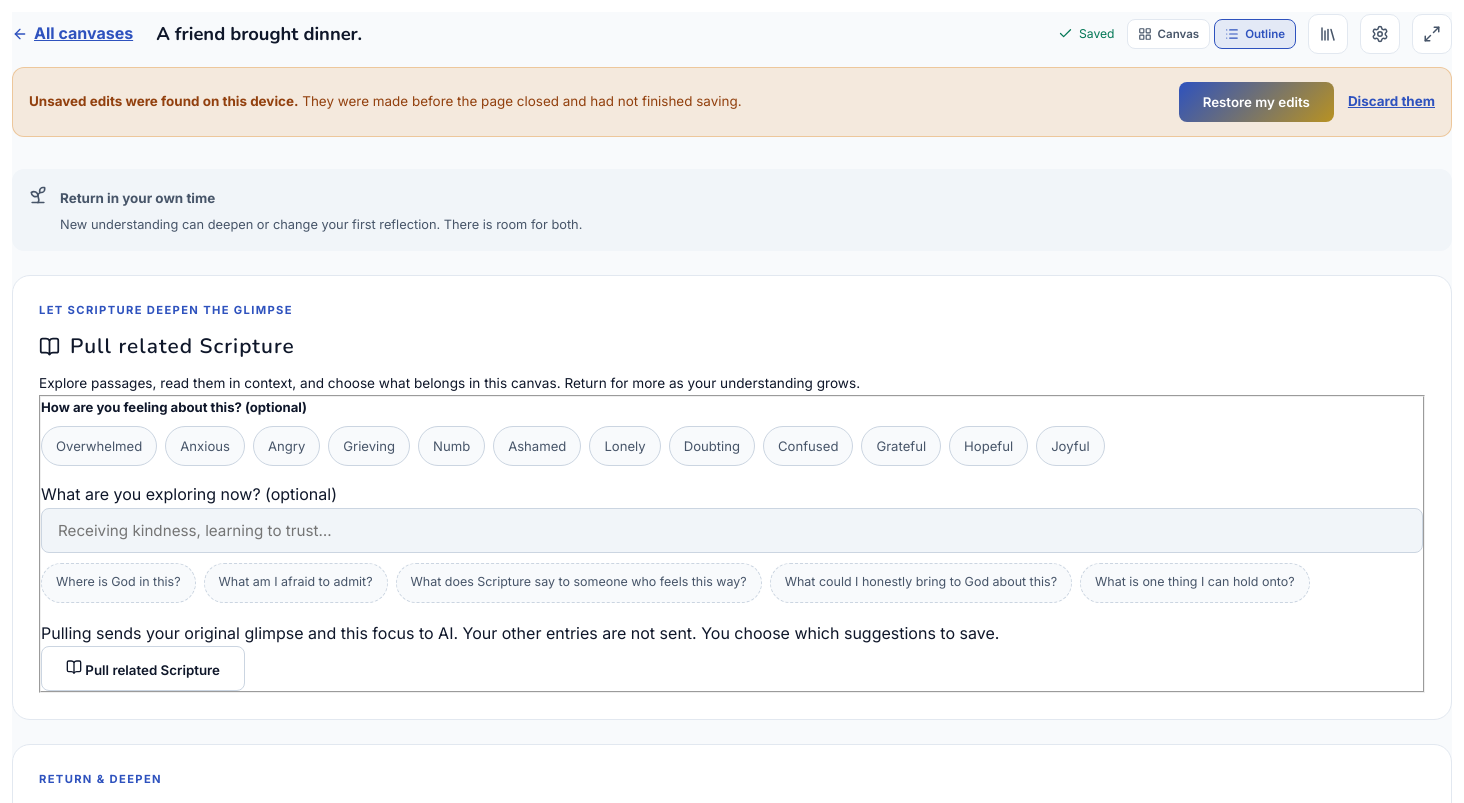
it: edits left on this device › offers to restore them when the account is still where they started, then saves them
Check: the message that starts with "Unsaved edits were found on this device." is shown, box [29,93,298,109]
Click the button "Restore my edits": (1256, 102) [1179,82,1334,122]
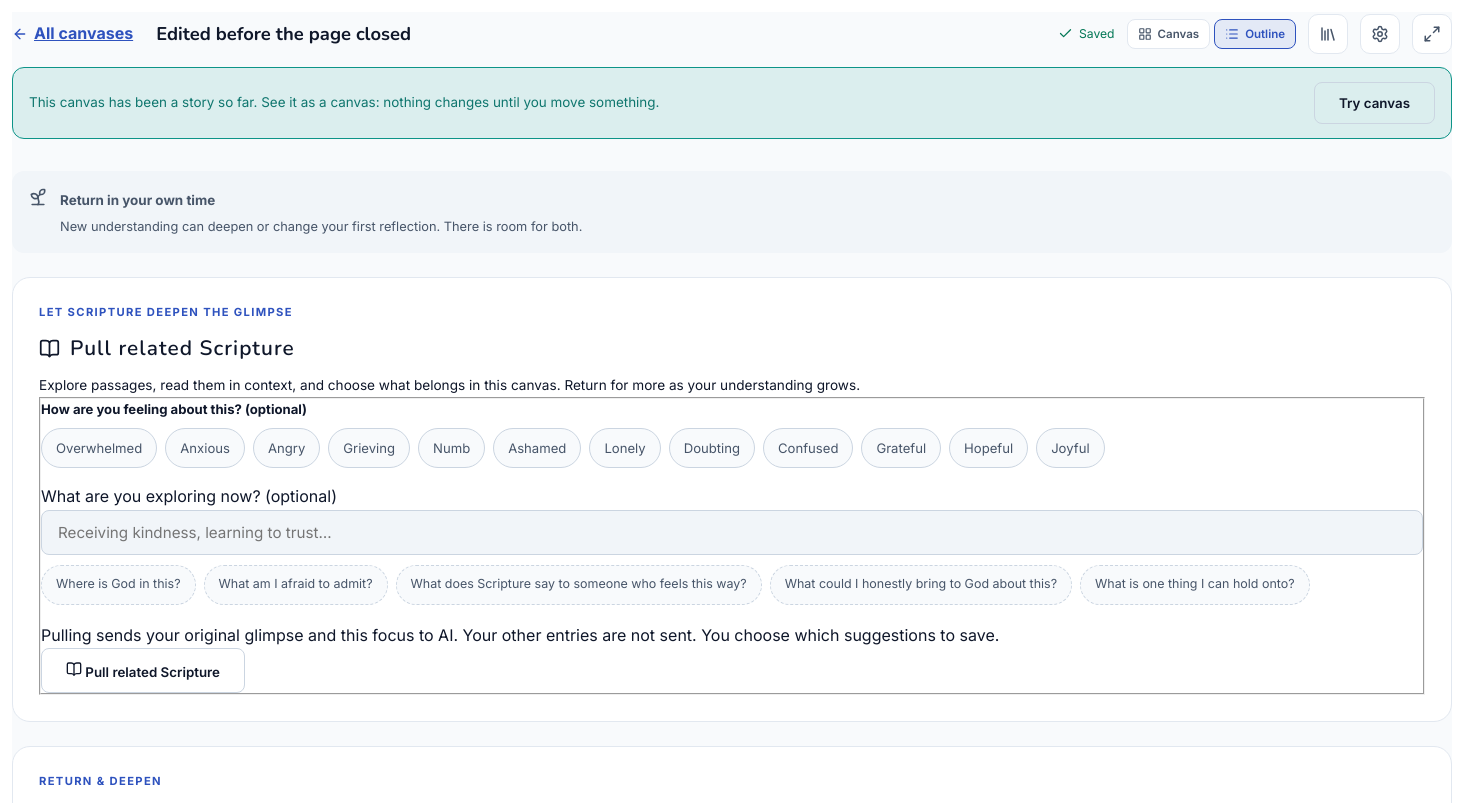
Check: the field named "Canvas title" holds "Edited before the page closed", box [145,12,1046,55]
